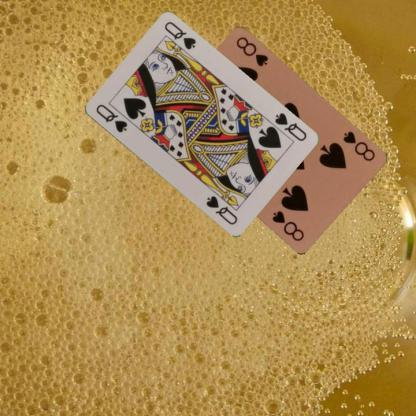8s: (340, 128, 376, 164)
Qs: (92, 102, 128, 134), (272, 110, 308, 142)
